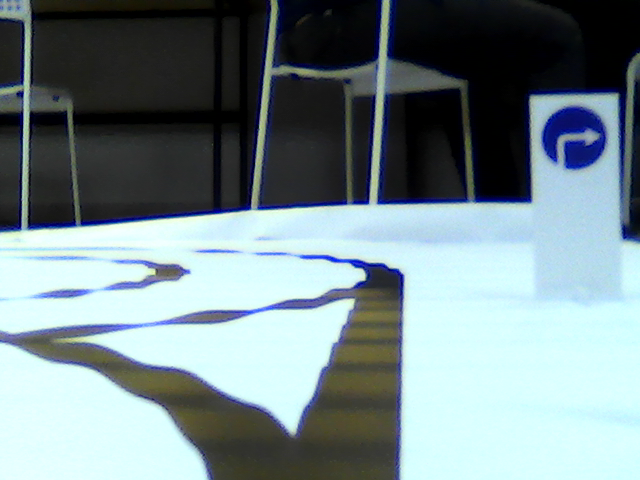Right: (541, 107, 606, 168)
